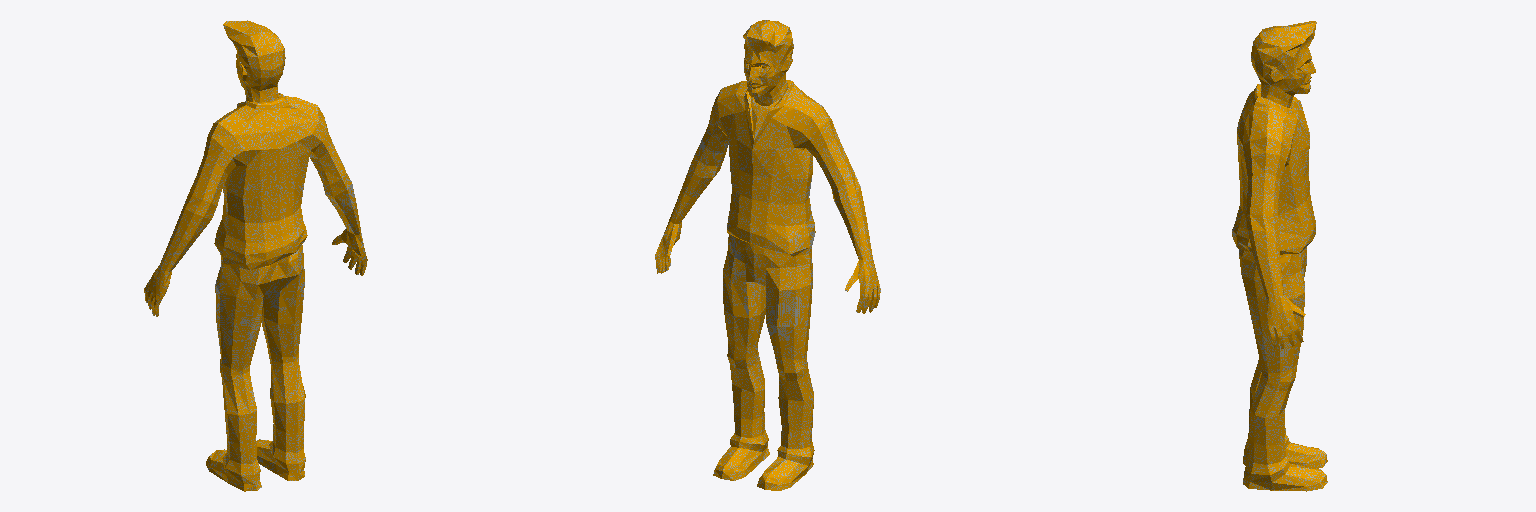
URDF robot description (person):
<robot name="person">
  <link name="person">
    <inertial>
      <origin xyz="0 0 0" />
      <mass value="0.6" />
      <inertia  ixx="0.0" ixy="0.0"  ixz="0.0"  iyy="0.0"  iyz="0.0"  izz="0.0" />
    </inertial>
    <visual>
      <origin xyz="0.0 0 0.0"/>
      <geometry>
        <mesh filename="package://penguinpi_gazebo/models/person/model.dae" scale="0.2 0.2 0.2"/>
      </geometry>
    </visual>
    <collision>
      <origin xyz="0.0 0.0 0.0"/>
      <geometry>
        <mesh filename="package://penguinpi_gazebo/models/person/model.dae" scale="0.2 0.2 0.2"/>
<!--
        <box>
          <size>0.3556 0.9398 1.8796</size>
          <scale>0.2 0.2 0.2</scale>
        </box>
-->
      </geometry>
    </collision>
  </link>
</robot>

--- What the picture shows (computed from the rendered views, not written in the file) ---
Views: 3 orthographic renders of the robot side by side, from view 1: azimuth 30°, elevation 25°; view 2: azimuth 150°, elevation 25°; view 3: azimuth 270°, elevation 25°.
Robot: person — 1 links, 0 joints (none); root link person; default pose: all joints at 0.
Links seen in each view (by area): view 1: person; view 2: person; view 3: person.
Link boxes in pixels (x1,y1,x2,y2): person: (144,20,367,491); person: (655,20,880,490); person: (1232,21,1327,491).
Bounding box of the posed robot: 0.188 × 0.0727 × 0.3757 m (x, y, z).
1 mesh visuals loaded from 1 distinct referenced files (1 Collada DAE).